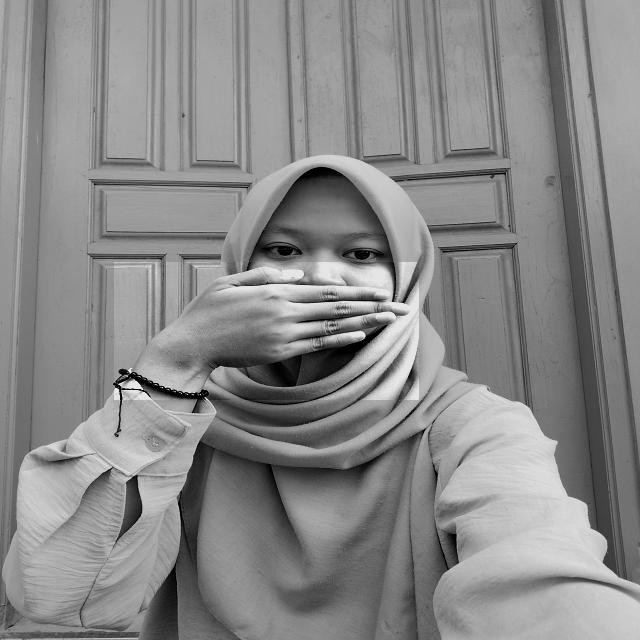buruk: (114, 262, 419, 400)
